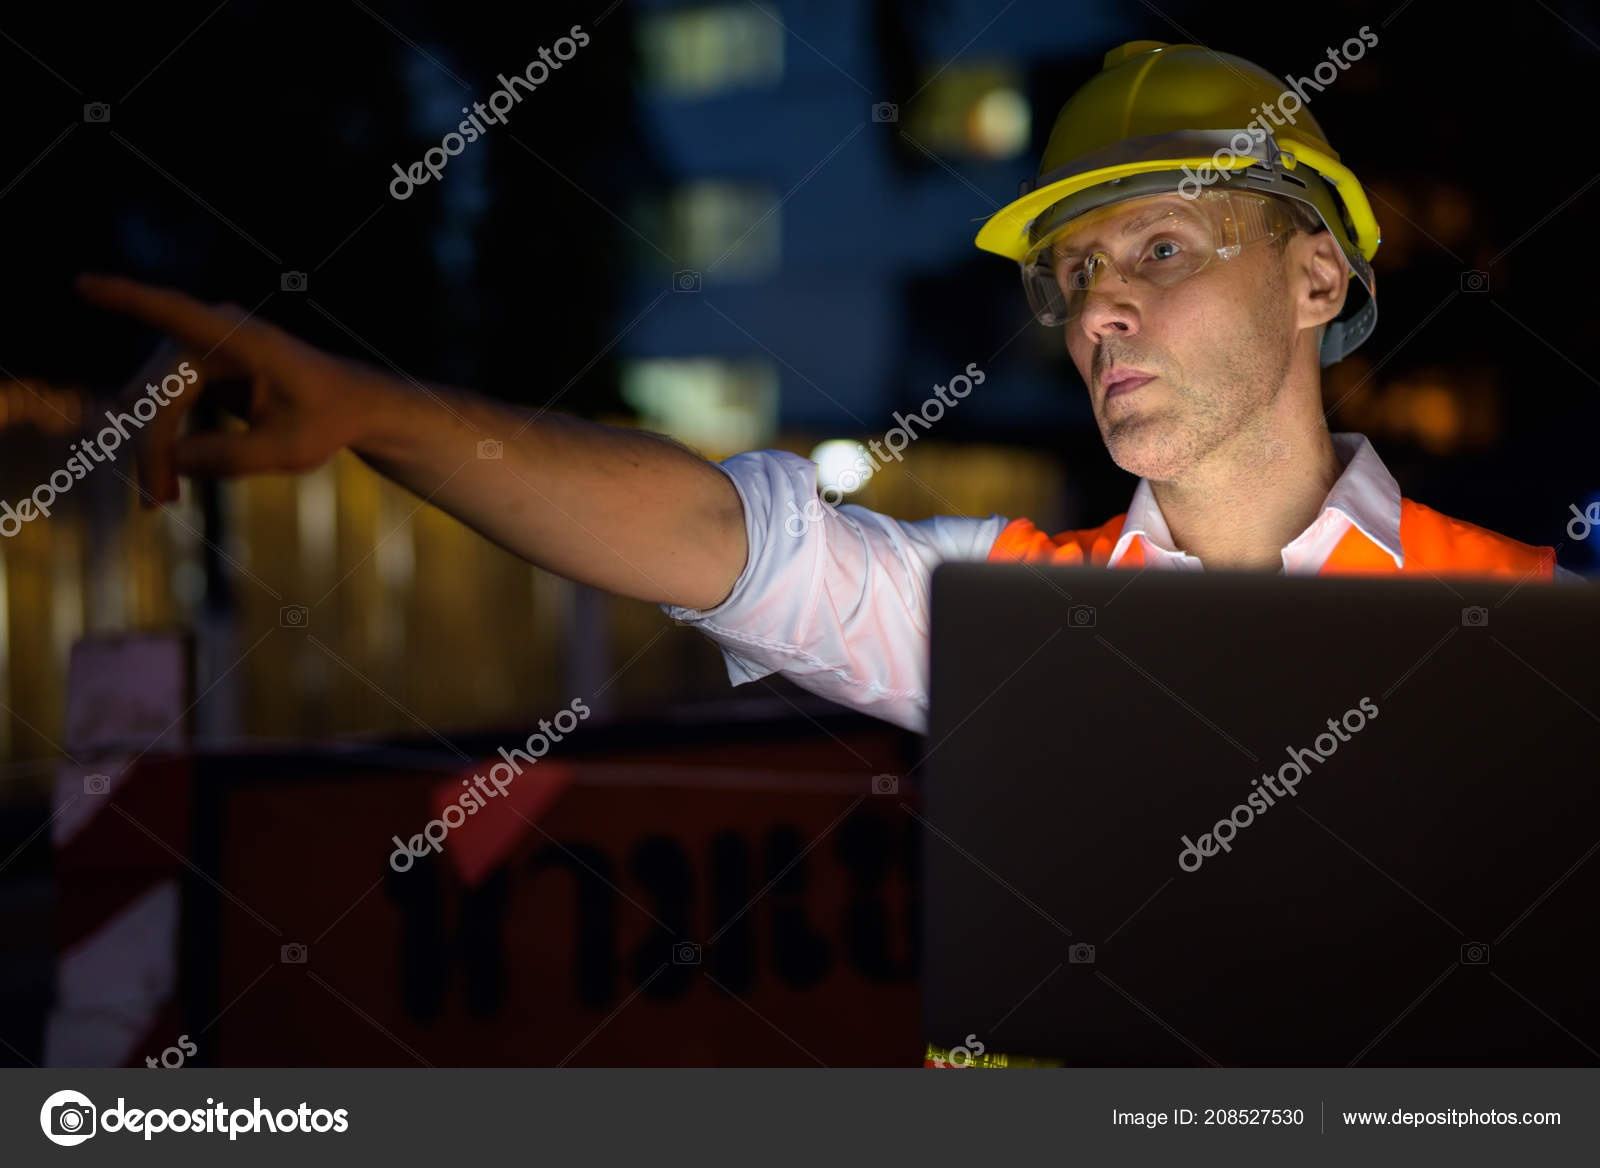yellow: (1022, 32, 1376, 478)
